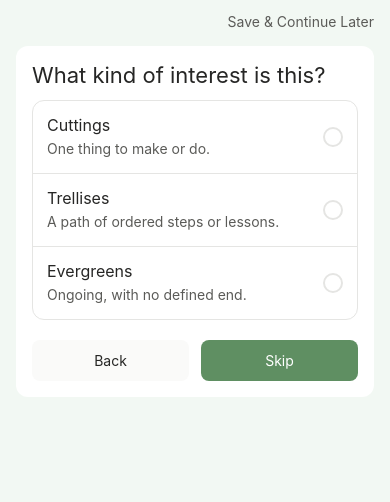
Test case: GuidedSetupScreen › sequential mode: Forward with no selection folds "not sure" into Skip and advances to the next card
Check: the text "What kind of interest is this?" is shown, box [32, 62, 358, 88]
Click the text "Skip" at (280, 360), box [265, 352, 294, 369]
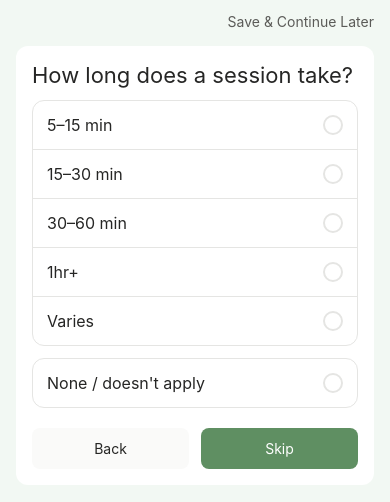
Check: the text "How long does a session take?" is shown, box [32, 62, 358, 88]
